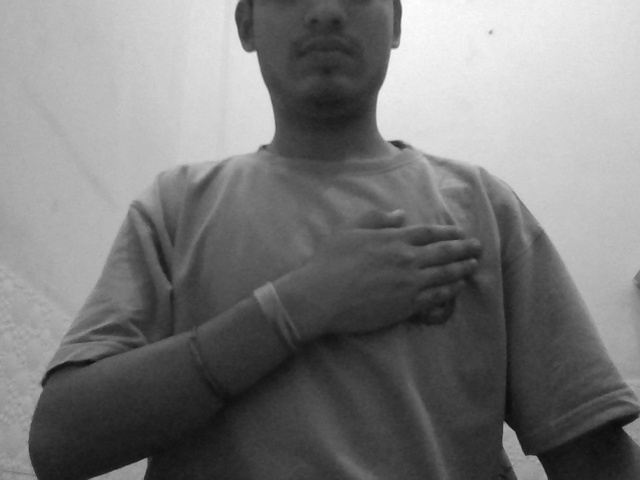Sorry: (281, 182, 495, 359)
